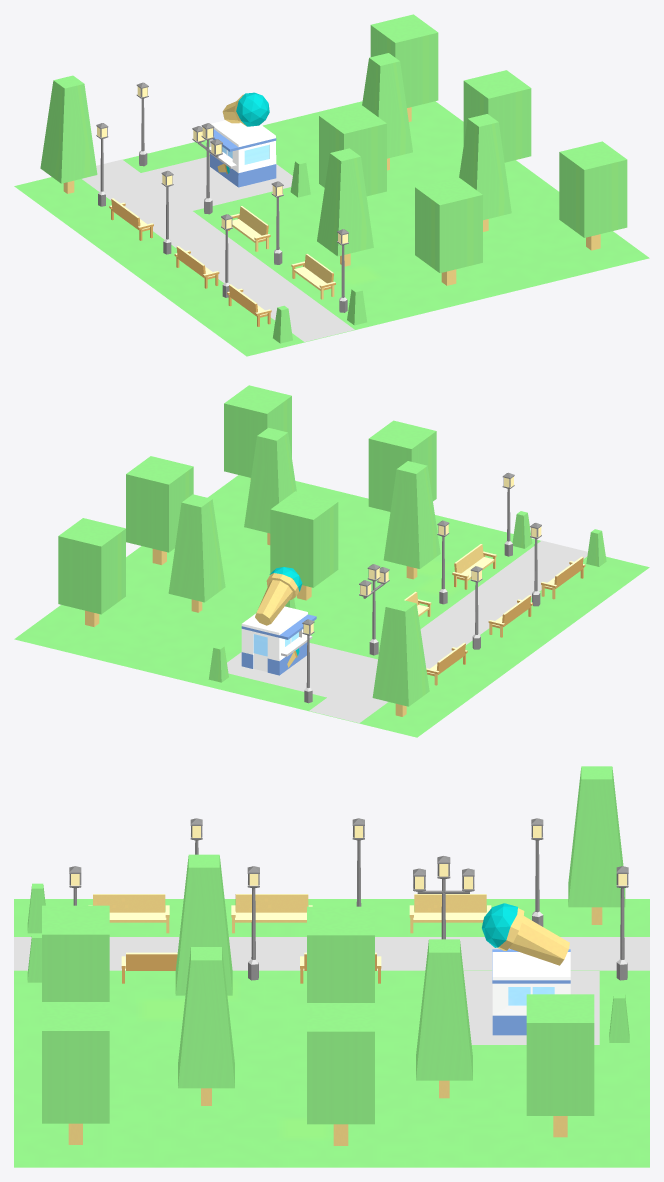
File: park.005.glb
3 renders of one model, top to bottom at view 1: azimuth 30°, elevation 25°; view 2: azimuth 150°, elevation 25°; view 3: azimuth 270°, elevation 25°, orthographic. The views are drawn at different scales.
Parts seen in each view (by area): view 1: park.005(Clone); view 2: park.005(Clone); view 3: park.005(Clone).
Part boxes in pixels (box(x1,y1,x2,y2)): park.005(Clone): box(14, 14, 649, 356); park.005(Clone): box(14, 385, 649, 737); park.005(Clone): box(14, 766, 649, 1167).
Size of the model in its own units: 16 by 4.24 by 16.
Materials: 1 (1 with a texture image).
